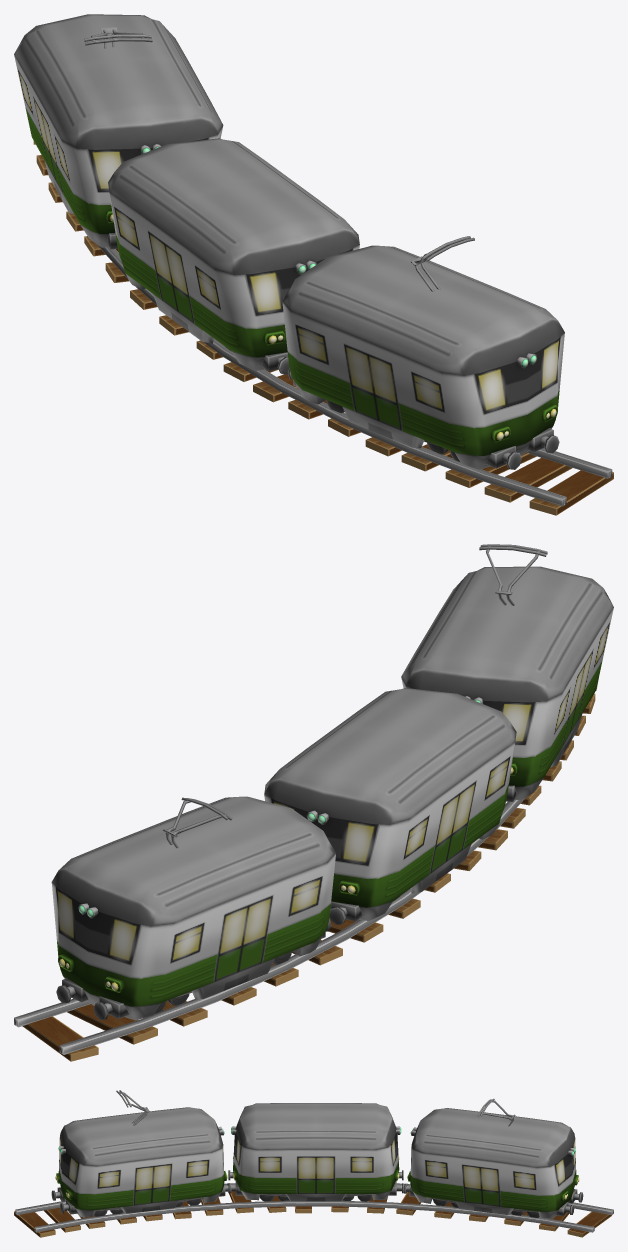
Rendered from assets_train.fbx.
3 views of the same model, one above another, from view 1: azimuth 30°, elevation 25°; view 2: azimuth 150°, elevation 25°; view 3: azimuth 270°, elevation 25° (orthographic). The views are drawn at different scales.
Visible parts, largest first — view 1: assets_train; view 2: assets_train; view 3: assets_train.
Part boxes in pixels (box(x1,y1,x2,y2)): assets_train: box(14, 14, 613, 515); assets_train: box(14, 544, 613, 1061); assets_train: box(14, 1090, 613, 1237).
Size of the model in its own units: 14.57 by 13.51 by 63.39.
